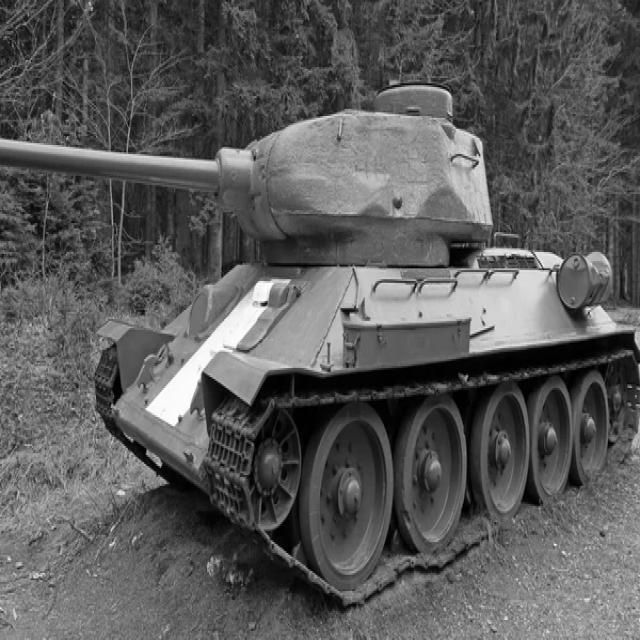Tank: (4, 76, 640, 607)
